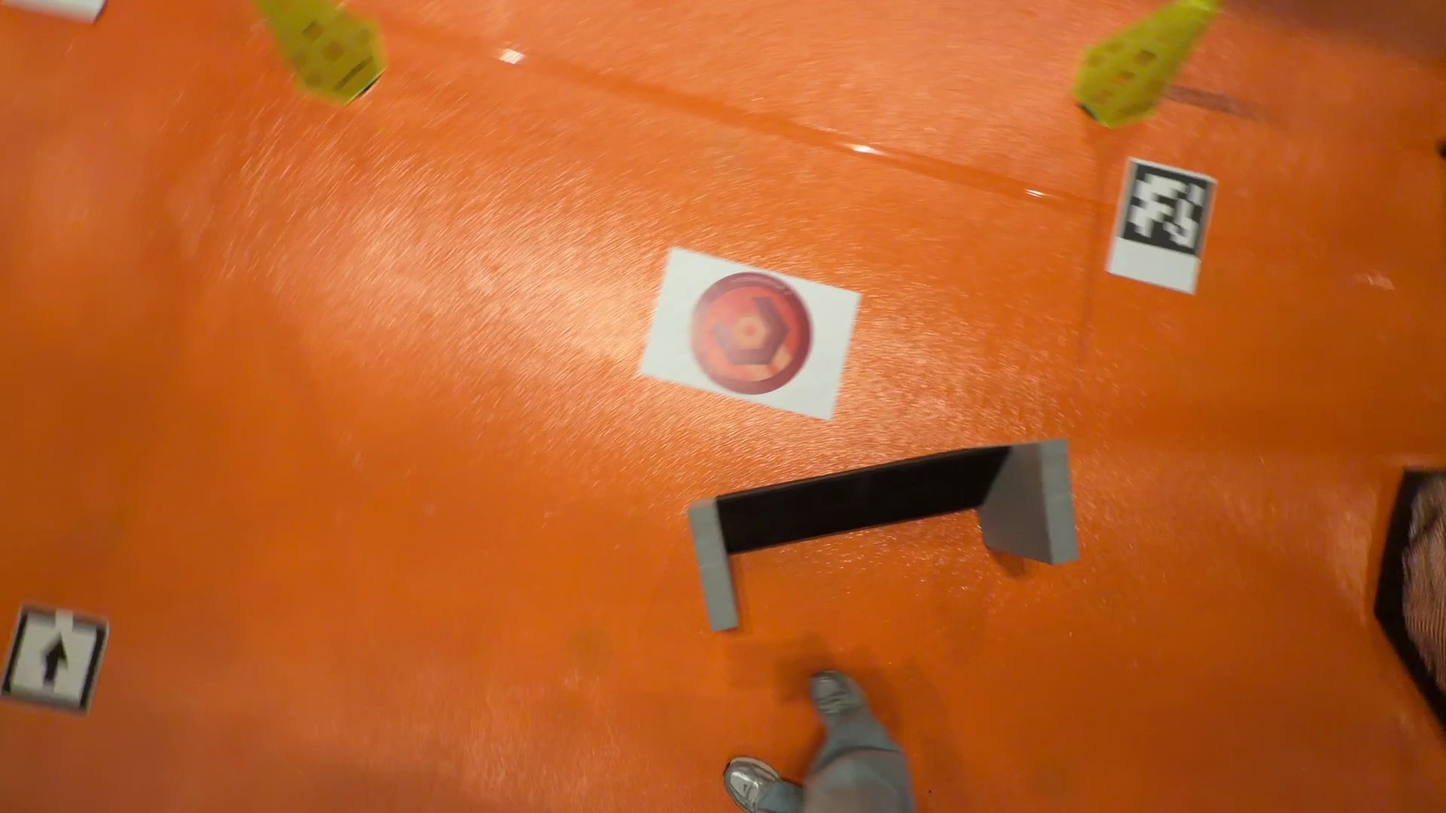landing_pad: (686, 272, 817, 398)
